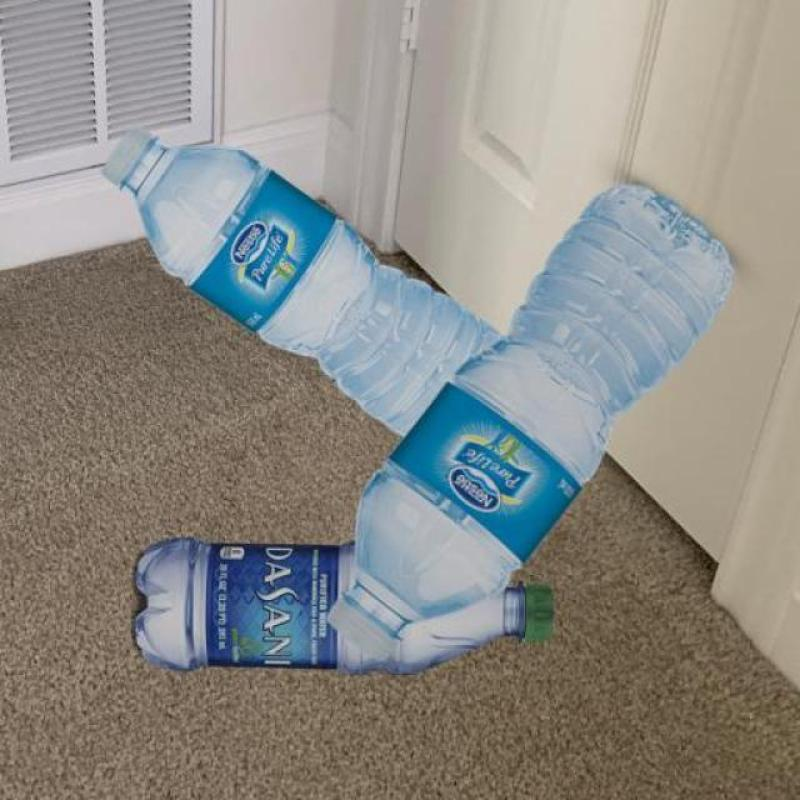botella: (324, 184, 738, 664), (105, 128, 504, 444), (132, 539, 556, 671)
